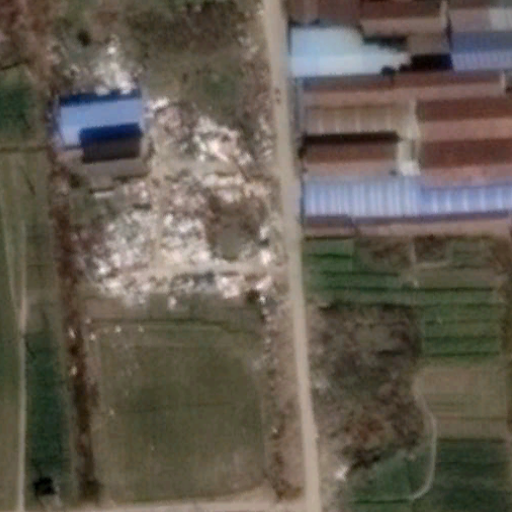msw: (75, 107, 272, 298)
